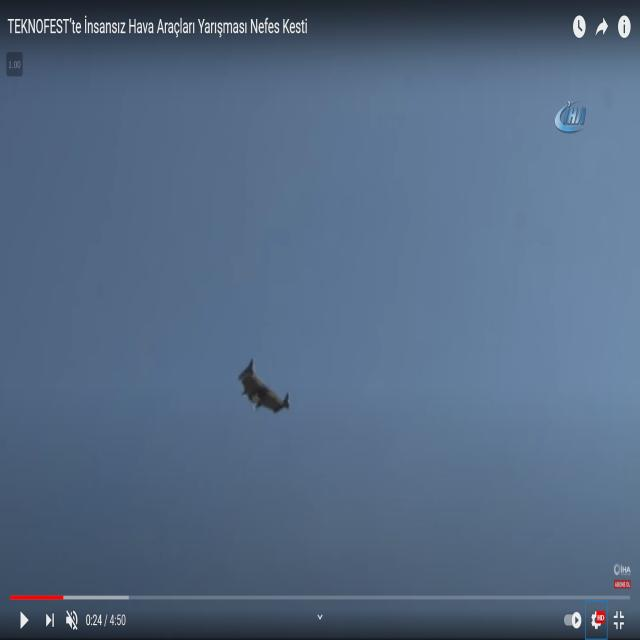iha: (229, 356, 284, 417)
